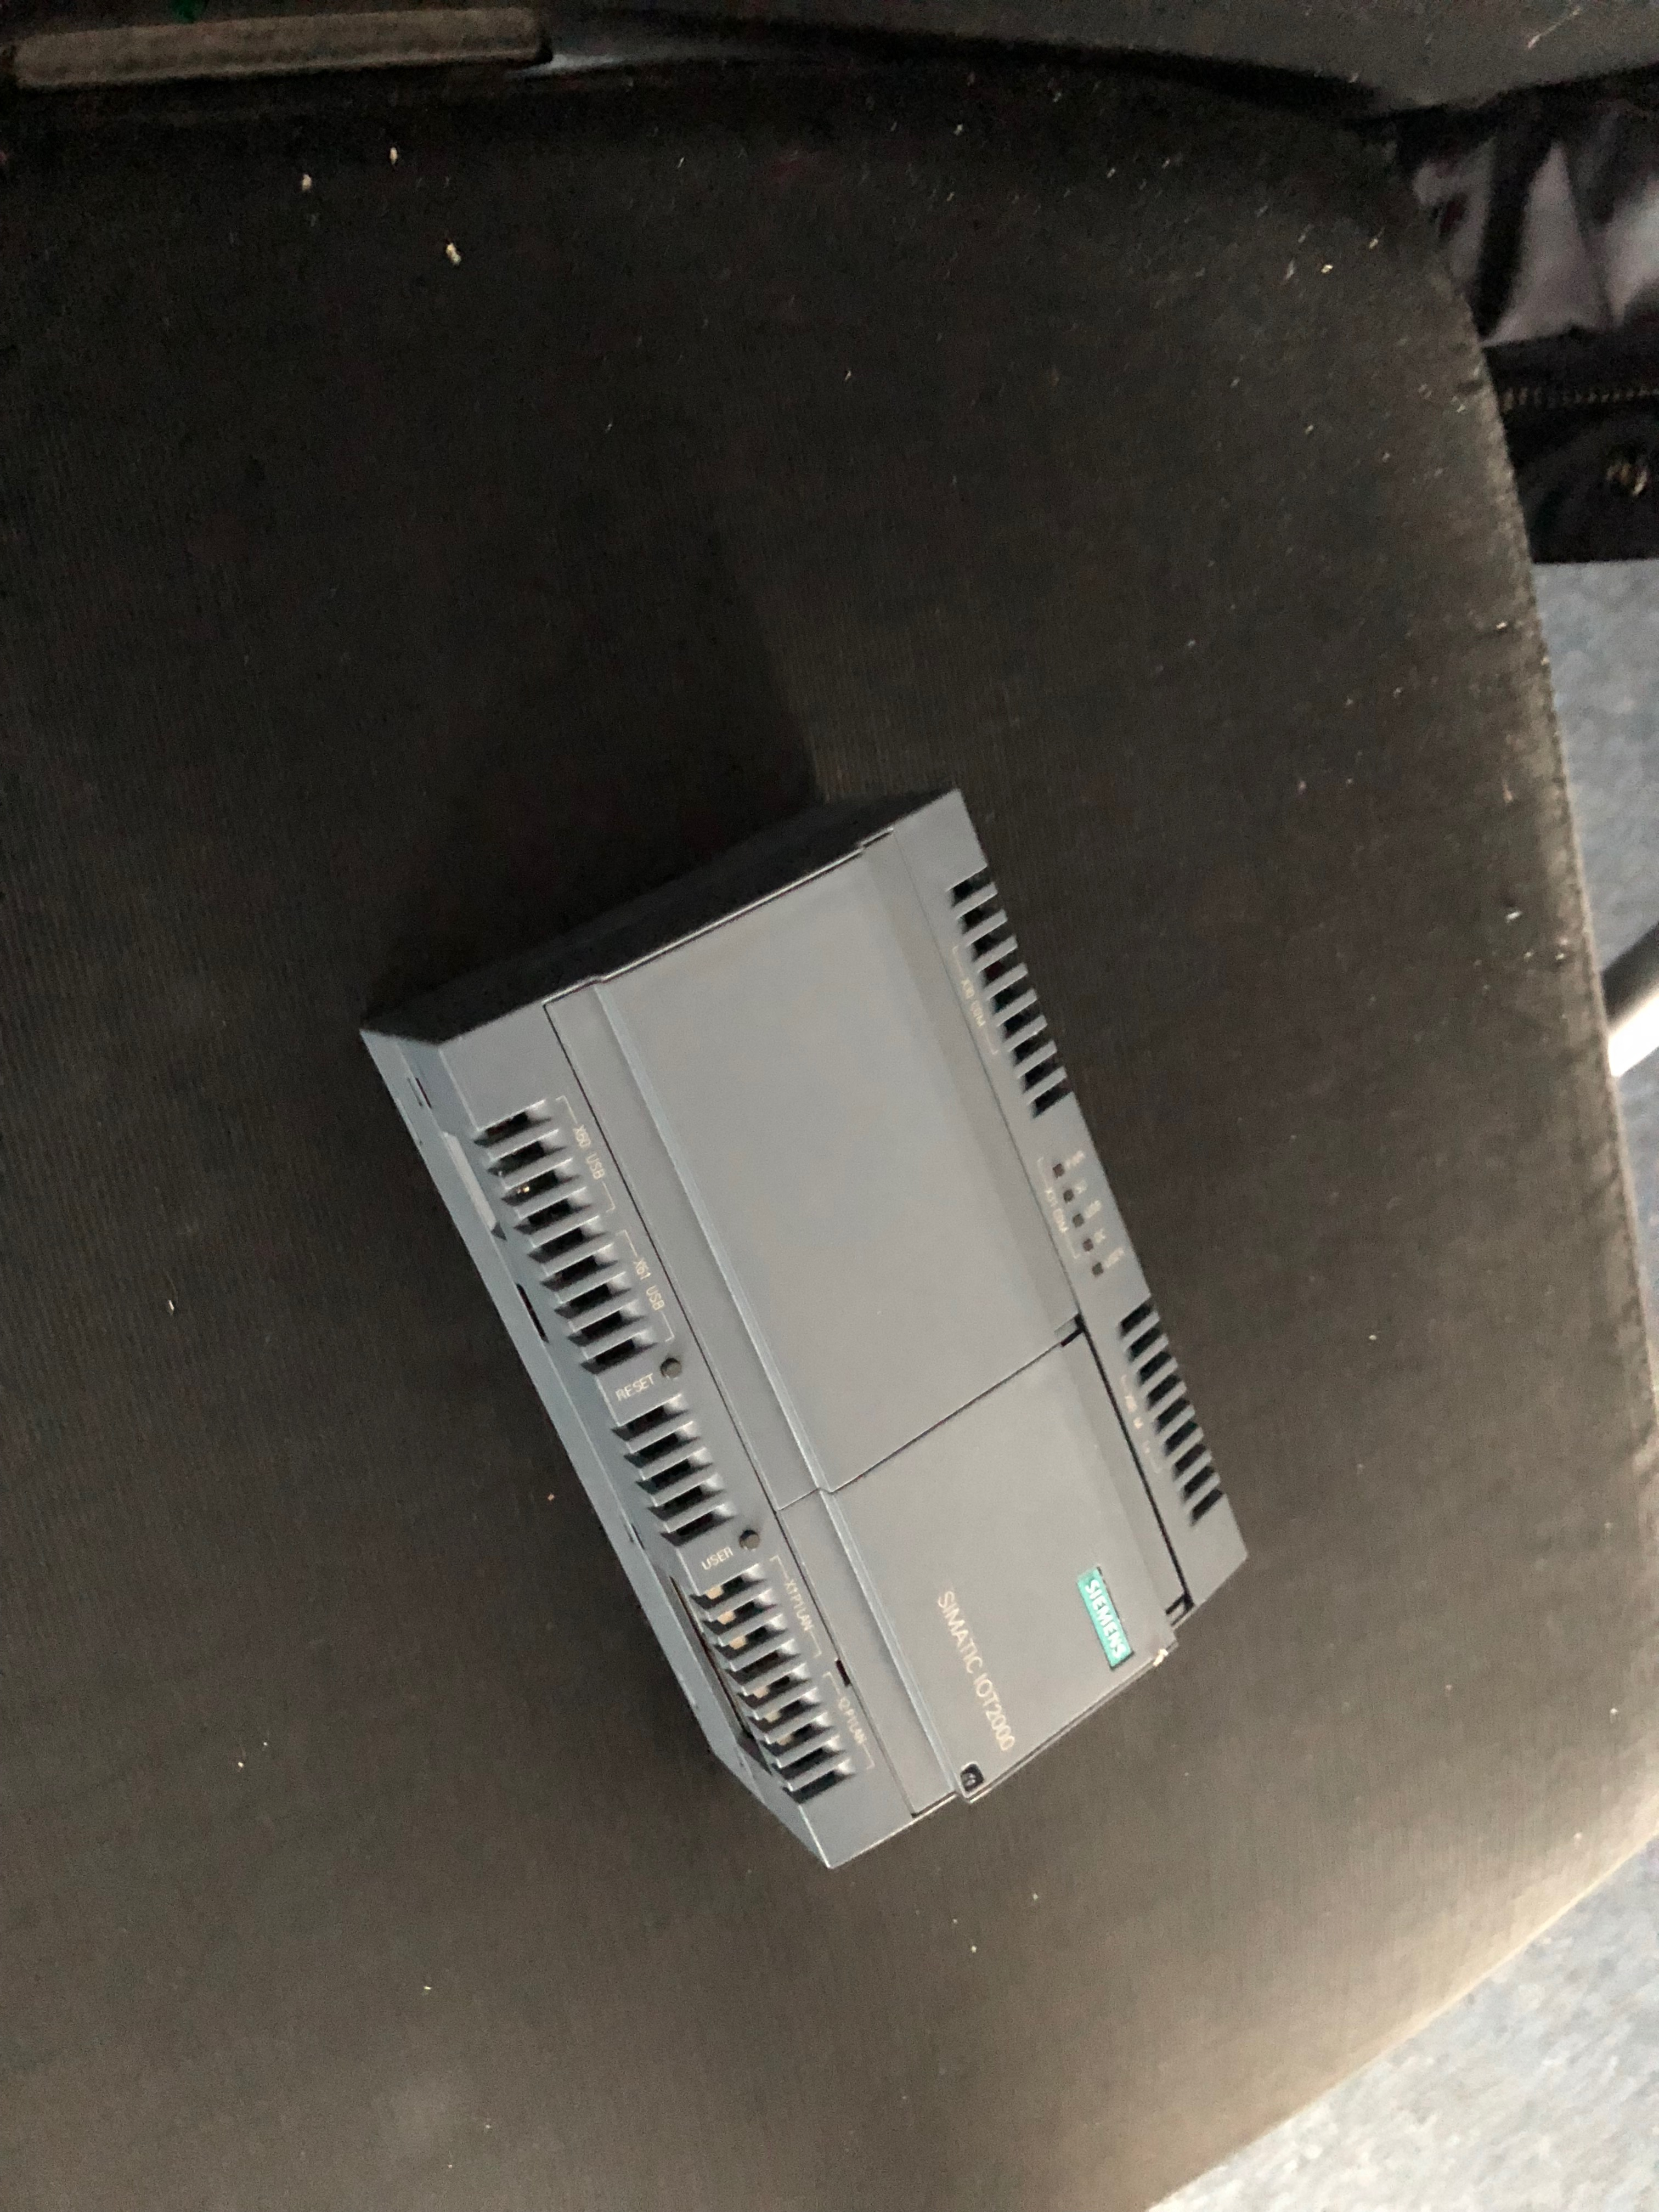device: (359, 786, 1251, 1871)
